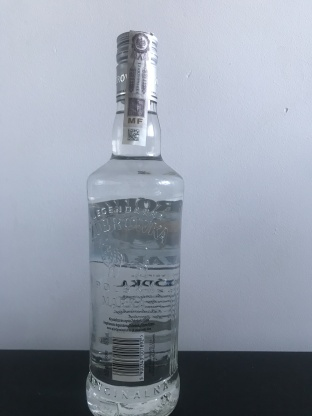nakretka: (113, 25, 160, 106)
